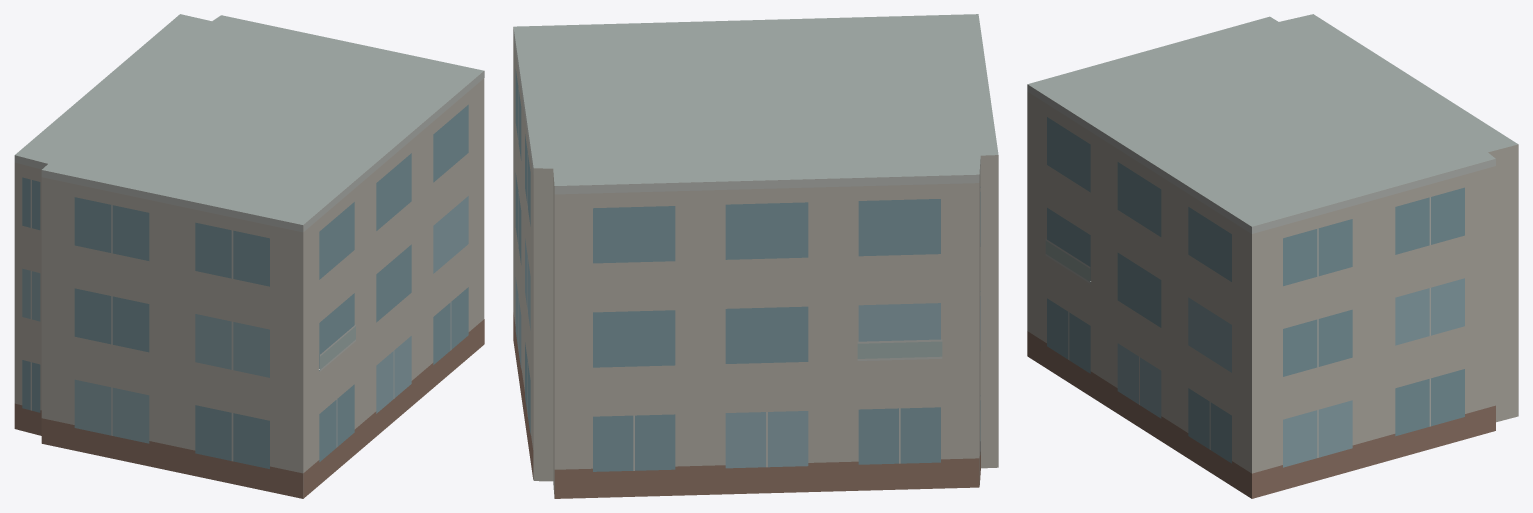
File: survey-upis-32616023.glb
3 views of the same model, side by side, from view 1: azimuth 30°, elevation 25°; view 2: azimuth 150°, elevation 25°; view 3: azimuth 270°, elevation 25° (orthographic). The views are drawn at different scales.
Parts seen in each view (by area): view 1: survey-upis-32616023.tmp; view 2: survey-upis-32616023.tmp; view 3: survey-upis-32616023.tmp.
Boxes of the visible parts, <box> form: survey-upis-32616023.tmp: <box>14,14,484,498</box>; survey-upis-32616023.tmp: <box>513,14,998,498</box>; survey-upis-32616023.tmp: <box>1027,14,1518,498</box>.
Size of the model in its own units: 15.36 by 9.15 by 14.98.
